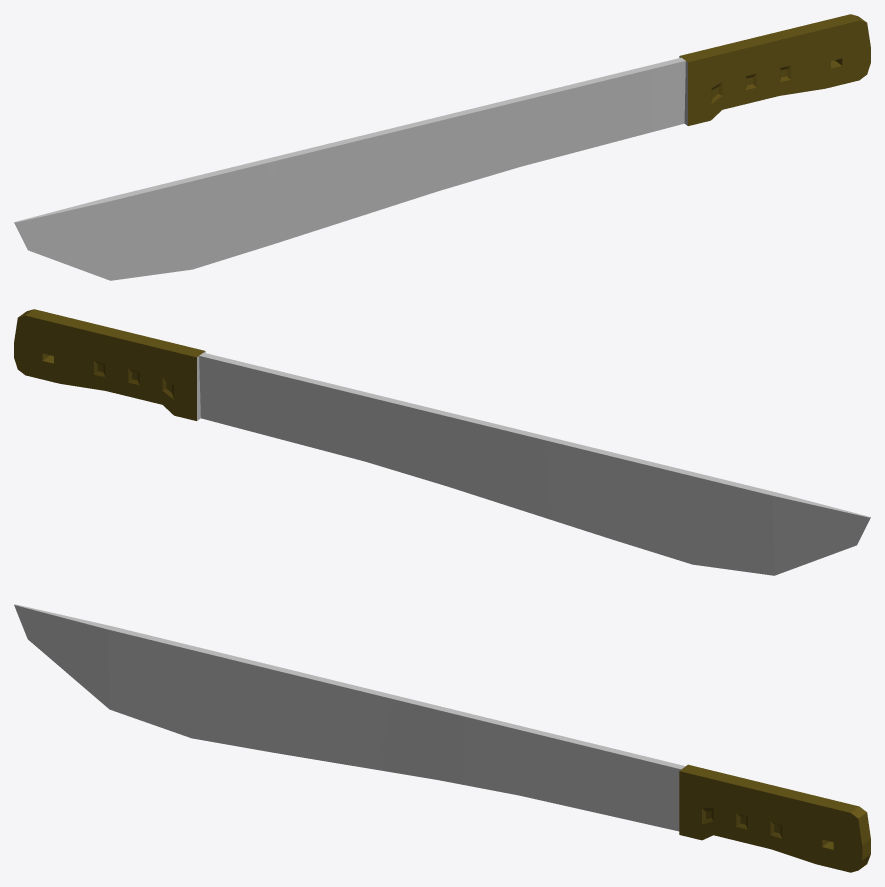
File: machete_world.obj
3 views of the same model, one above another, from view 1: azimuth 30°, elevation 25°; view 2: azimuth 150°, elevation 25°; view 3: azimuth 330°, elevation 25° (orthographic).
Parts seen in each view (by area): view 1: machete; view 2: machete; view 3: machete.
Boxes of the visible parts, box(x1,y1,x2,y2) form: machete: box(14, 14, 870, 280); machete: box(14, 309, 870, 575); machete: box(14, 604, 870, 872).
Size of the model in its own units: 0.7106 by 0.0718 by 0.0127.
